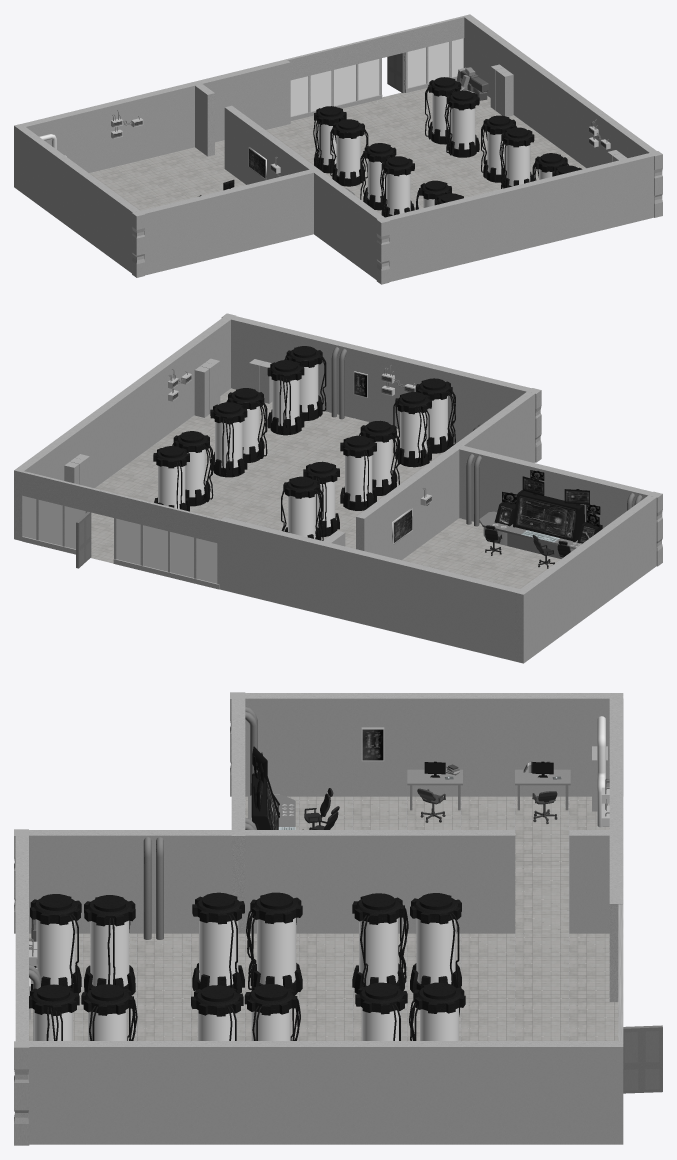
The model's file is Room5.fbx.
3 renders of one model, top to bottom at view 1: azimuth 30°, elevation 25°; view 2: azimuth 150°, elevation 25°; view 3: azimuth 270°, elevation 25°, orthographic. The views are drawn at different scales.
Visible parts, largest first — view 1: Wall1.114, Cube.135, Cube.139, Cube.134, Wall1.096, Wall1.094, Wall1.097, Wall1.148, Wall1.112, Wall1.113, Wall1.123, Wall1.143 (+76 smaller); view 2: Wall1.114, Cube.177, Cube.135, Wall1.140, Wall1.139, Wall1.143, Wall1.141, Wall1.144, Wall1.138, Wall1.137, Wall1.142, Wall1.126 (+77 smaller); view 3: Wall1.098, Wall1.099, Wall1.100, Wall1.101, Wall1.109, Wall1.110, Wall1.111, Wall1.119, Wall1.120, Wall1.121, Wall1.129, Wall1.106 (+75 smaller).
Boxes of the visible parts, x1=… form: Wall1.114: x1=286, y1=16, x2=464, y2=80; Cube.135: x1=290, y1=59, x2=379, y2=116; Cube.139: x1=330, y1=119, x2=368, y2=186; Cube.134: x1=444, y1=90, x2=479, y2=157; Wall1.096: x1=621, y1=153, x2=654, y2=224; Wall1.094: x1=503, y1=181, x2=536, y2=253; Wall1.097: x1=591, y1=160, x2=624, y2=231; Wall1.148: x1=170, y1=196, x2=203, y2=268; Wall1.112: x1=562, y1=167, x2=595, y2=238; Wall1.113: x1=532, y1=174, x2=565, y2=246; Wall1.123: x1=415, y1=203, x2=447, y2=274; Wall1.143: x1=139, y1=88, x2=172, y2=159; Wall1.114: x1=22, y1=471, x2=220, y2=543; Cube.177: x1=479, y1=490, x2=602, y2=558; Cube.135: x1=116, y1=519, x2=217, y2=583; Wall1.140: x1=252, y1=525, x2=289, y2=605; Wall1.139: x1=285, y1=533, x2=322, y2=613; Wall1.143: x1=351, y1=549, x2=388, y2=629; Wall1.141: x1=219, y1=517, x2=256, y2=597; Wall1.144: x1=318, y1=541, x2=355, y2=621; Wall1.138: x1=417, y1=565, x2=454, y2=645; Wall1.137: x1=450, y1=573, x2=487, y2=653; Wall1.142: x1=384, y1=557, x2=421, y2=637; Wall1.126: x1=483, y1=581, x2=519, y2=661; Wall1.098: x1=515, y1=1041, x2=569, y2=1144; Wall1.099: x1=569, y1=1041, x2=623, y2=1144; Wall1.100: x1=407, y1=1041, x2=461, y2=1144; Wall1.101: x1=461, y1=1041, x2=515, y2=1144; Wall1.109: x1=299, y1=1041, x2=353, y2=1144; Wall1.110: x1=353, y1=1041, x2=407, y2=1144; Wall1.111: x1=245, y1=1041, x2=299, y2=1144; Wall1.119: x1=191, y1=1041, x2=245, y2=1144; Wall1.120: x1=83, y1=1041, x2=137, y2=1144; Wall1.121: x1=137, y1=1041, x2=191, y2=1144; Wall1.129: x1=461, y1=830, x2=515, y2=933; Wall1.106: x1=299, y1=693, x2=353, y2=796.
Bounding box in the file's own units: 26.97 × 3.75 × 20.81.
